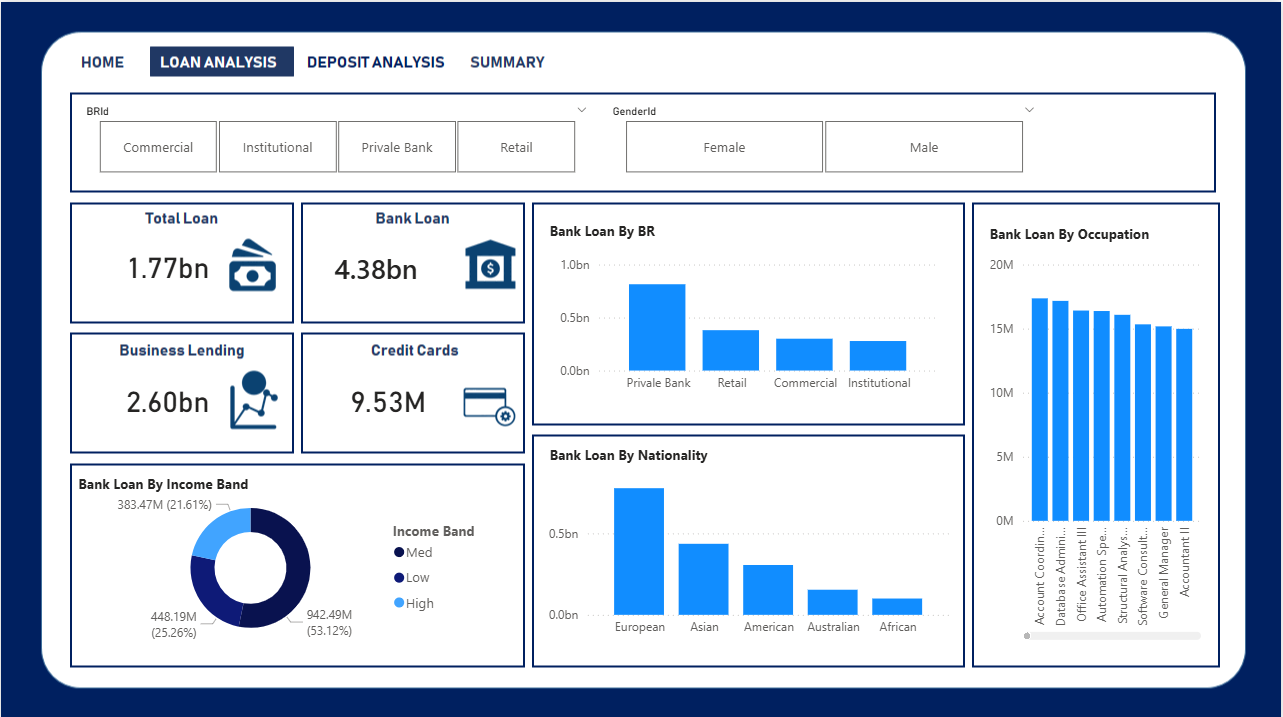

What the dashboard file says about the page in this screenshot:
{"tool":"powerbi","page":{"name":"Loan Analysis","canvas":[1280,720],"ordinal":1},"visuals":[{"type":"actionButton","box":[57.6,42.5,89.2,37],"z":0},{"type":"actionButton","box":[465.2,43.9,89.2,37],"z":1000},{"type":"actionButton","box":[300.5,42.5,146.8,37],"z":2000},{"type":"card","fields":{"Values":["Sum(Banking_Clients.Bank Loans)"]},"box":[83.7,231.9,166,63.1],"z":3000},{"type":"card","fields":{"Values":["Sum(Banking_Clients.Business Lending)"]},"box":[83.7,359.5,166,75.5],"z":4000},{"type":"textbox","box":[314.2,244.3,122.1,63.1],"z":5000},{"type":"card","fields":{"Values":["Sum(Banking_Clients.Credit Card Balance)"]},"box":[314.2,376,146.8,43.9],"z":6000},{"type":"donutChart","fields":{"Category":["Banking_Clients.Income Band"],"Y":["Sum(Banking_Clients.Bank Loans)"]},"box":[102.9,482.9,394.3,167.1],"z":7000},{"type":"textbox","box":[72.1,467.9,188.6,28.6],"z":8000},{"type":"textbox","box":[543.3,215.6,224.4,28.9],"z":9000},{"type":"textbox","box":[543.3,438.9,188.9,28.9],"z":10000},{"type":"textbox","box":[984.3,217.1,188.6,28.6],"z":11000},{"type":"clusteredColumnChart","fields":{"Category":["Banking_Clients.BRId"],"Y":["Sum(Banking_Clients.Bank Loans)"]},"box":[554.3,248.6,388.6,150],"z":12000},{"type":"clusteredColumnChart","fields":{"Category":["Banking_Clients.Nationality"],"Y":["Sum(Banking_Clients.Bank Loans)"]},"box":[542.9,468.6,411.4,174.3],"z":13000},{"type":"clusteredColumnChart","fields":{"Category":["Banking_Clients.Occupation"],"Y":["Sum(Banking_Clients.Bank Loans)"]},"box":[984.3,248.6,221.4,394.3],"z":14000},{"type":"slicer","fields":{"Values":["Banking_Clients.BRId"]},"box":[72.9,97.1,525.7,80],"z":15000},{"type":"slicer","fields":{"Values":["Banking_Clients.GenderId"]},"box":[598.6,97.1,447.1,80],"z":16000}]}

Visuals, with their boxes in screenshot pixels (x1, y1, x2, y2), scaled from the page's 1280x720 canvas onto the 1283x717 screenshot:
actionButton: 58/42/147/79
actionButton: 466/44/556/81
actionButton: 301/42/448/79
card - Sum(Banking_Clients.Bank Loans): 84/231/250/294
card - Sum(Banking_Clients.Business Lending): 84/358/250/433
textbox: 315/243/437/306
card - Sum(Banking_Clients.Credit Card Balance): 315/374/462/418
donutChart - Banking_Clients.Income Band x Sum(Banking_Clients.Bank Loans): 103/481/498/647
textbox: 72/466/261/494
textbox: 545/215/769/243
textbox: 545/437/734/466
textbox: 987/216/1176/245
clusteredColumnChart - Banking_Clients.BRId x Sum(Banking_Clients.Bank Loans): 556/248/945/397
clusteredColumnChart - Banking_Clients.Nationality x Sum(Banking_Clients.Bank Loans): 544/467/957/640
clusteredColumnChart - Banking_Clients.Occupation x Sum(Banking_Clients.Bank Loans): 987/248/1209/640
slicer - Banking_Clients.BRId: 73/97/600/176
slicer - Banking_Clients.GenderId: 600/97/1048/176
